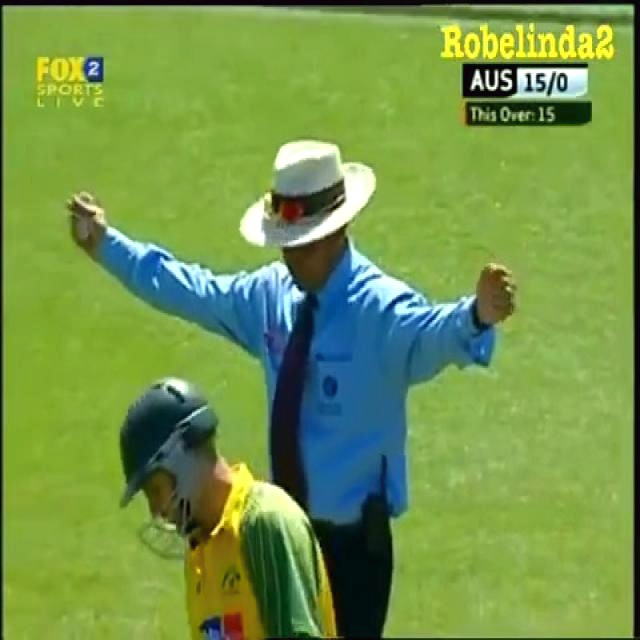Wide: (59, 134, 536, 429)
